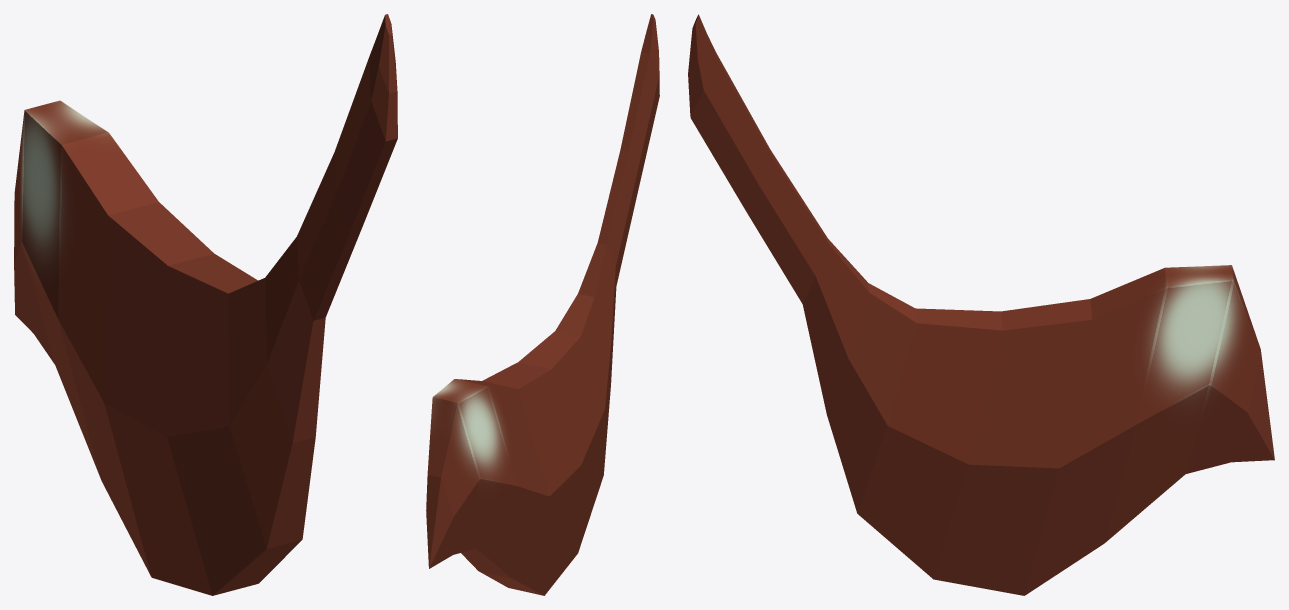
File: body.obj
3 renders of one model, left to right at view 1: azimuth 30°, elevation 25°; view 2: azimuth 150°, elevation 25°; view 3: azimuth 270°, elevation 25°, orthographic. The views are drawn at different scales.
Visible parts, largest first — view 1: Bird_roll_env_07:lambert10_0; view 2: Bird_roll_env_07:lambert10_0; view 3: Bird_roll_env_07:lambert10_0.
Part boxes in pixels (left/top/right/bottom): Bird_roll_env_07:lambert10_0: left=14, top=14, right=397, bottom=595; Bird_roll_env_07:lambert10_0: left=426, top=14, right=659, bottom=595; Bird_roll_env_07:lambert10_0: left=688, top=14, right=1274, bottom=595.
Bounding box in the file's own units: 0.1134 × 0.7268 × 0.6713.
1 material, 1 textured.
